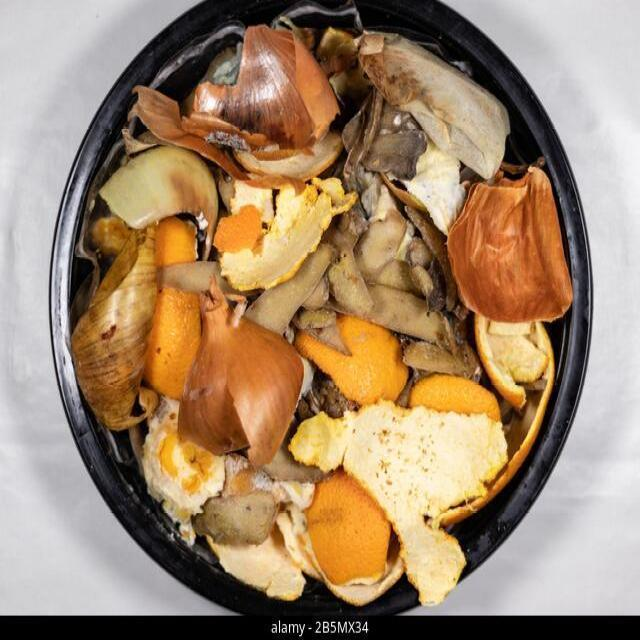trashbin: (48, 0, 592, 615)
